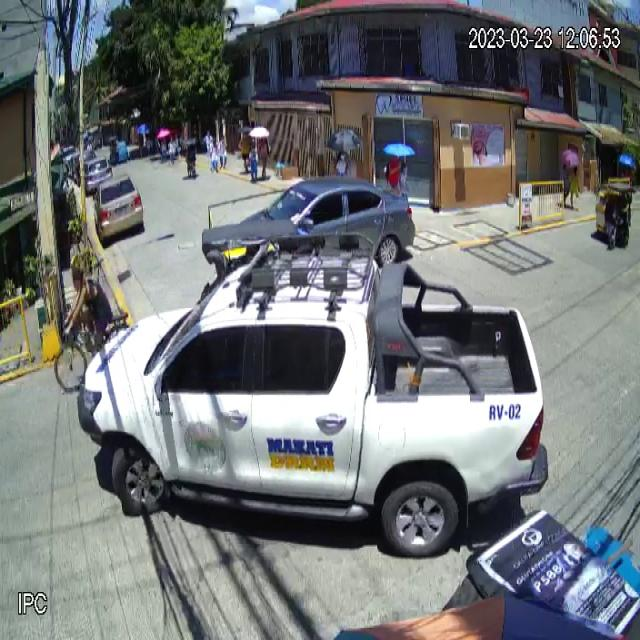Car: (81, 235, 549, 555), (202, 176, 415, 281), (94, 174, 144, 243)
